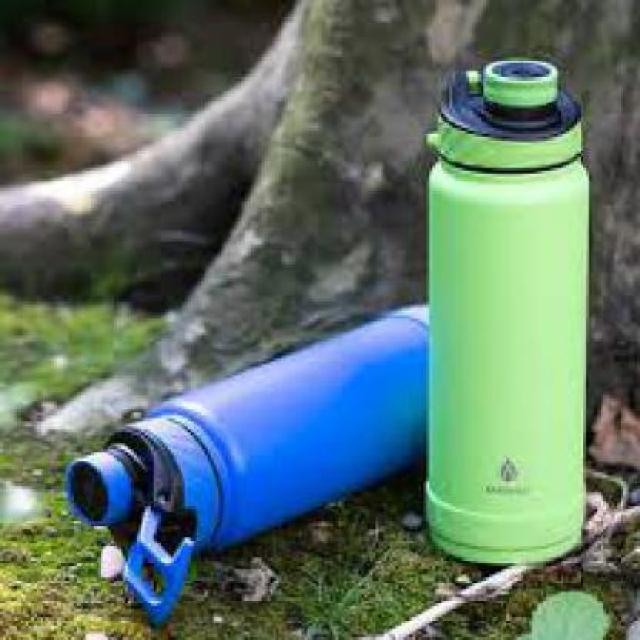Drinking: (54, 278, 481, 632), (415, 31, 623, 598)
